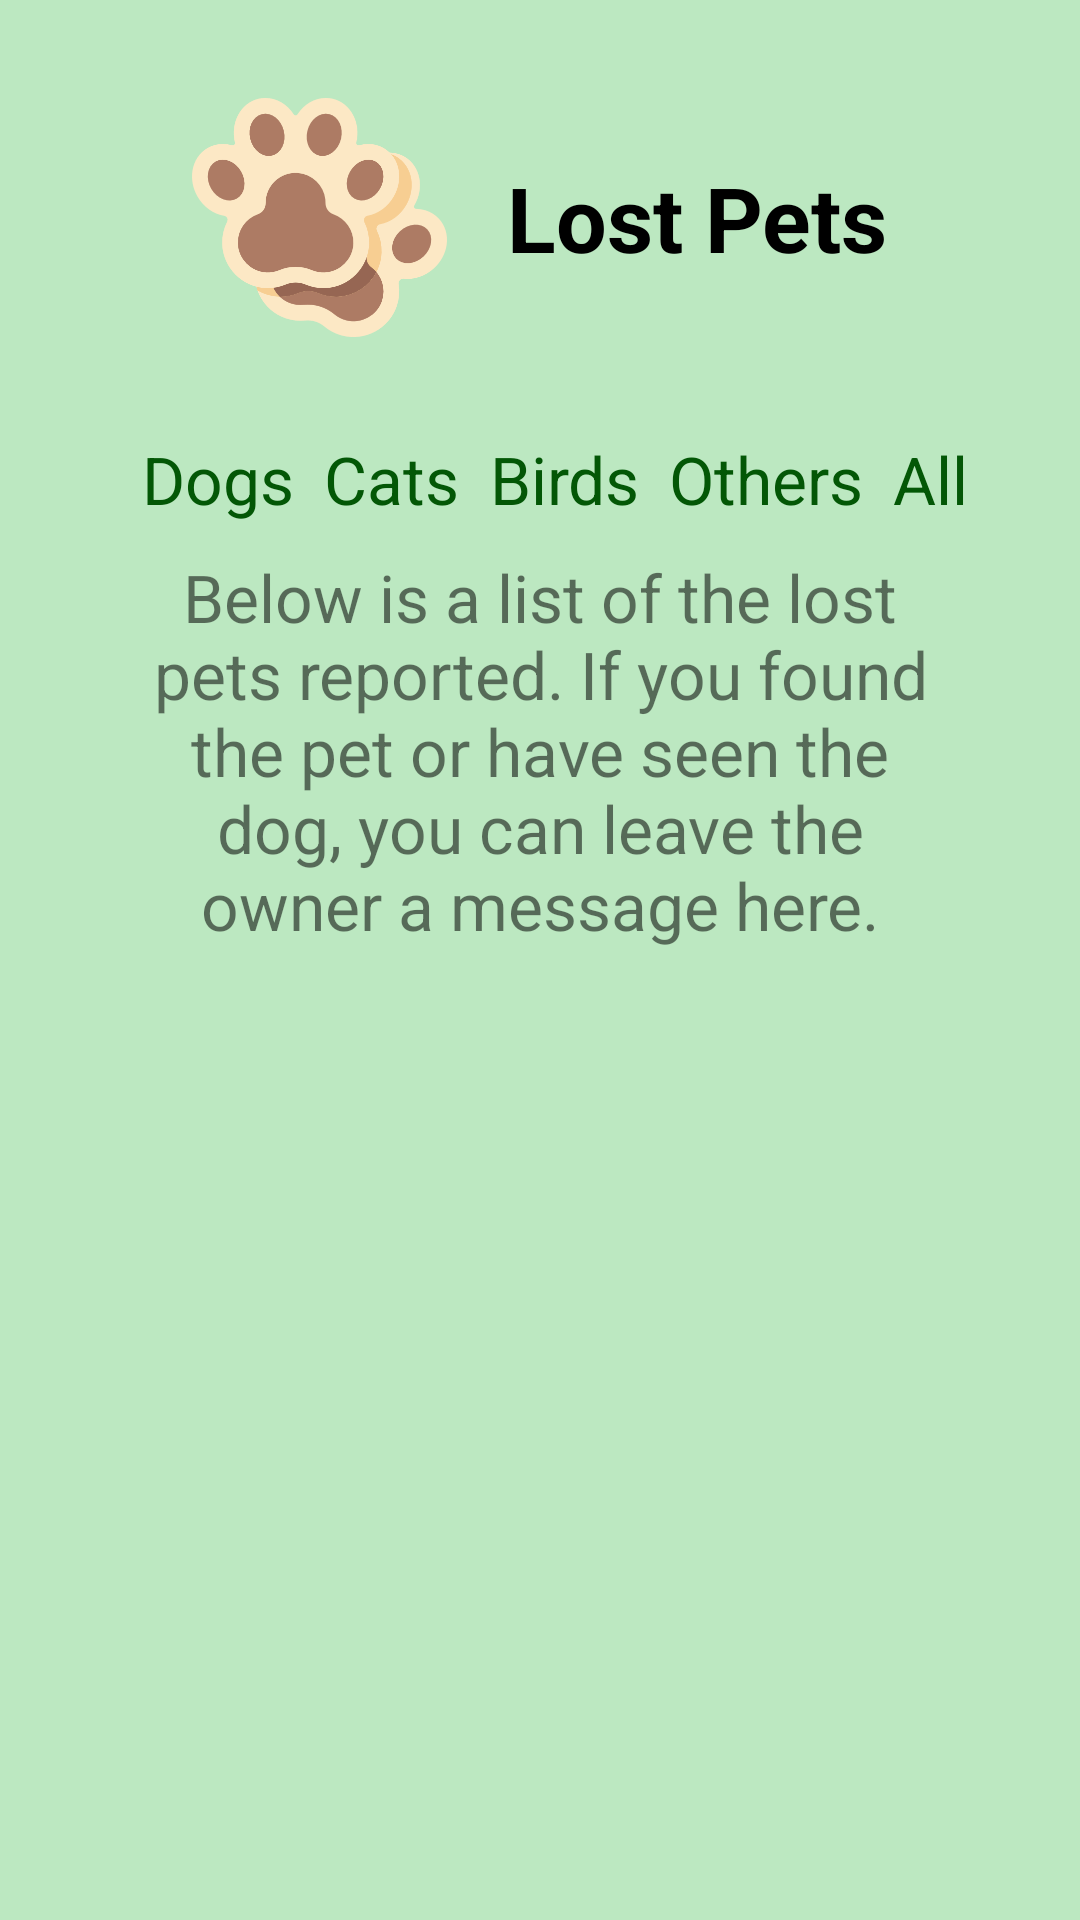

Where icons sit on this 1080w x 1920h app screen, as BBox(x1, y1, x2, y2):
track: BBox(192, 98, 447, 337)
